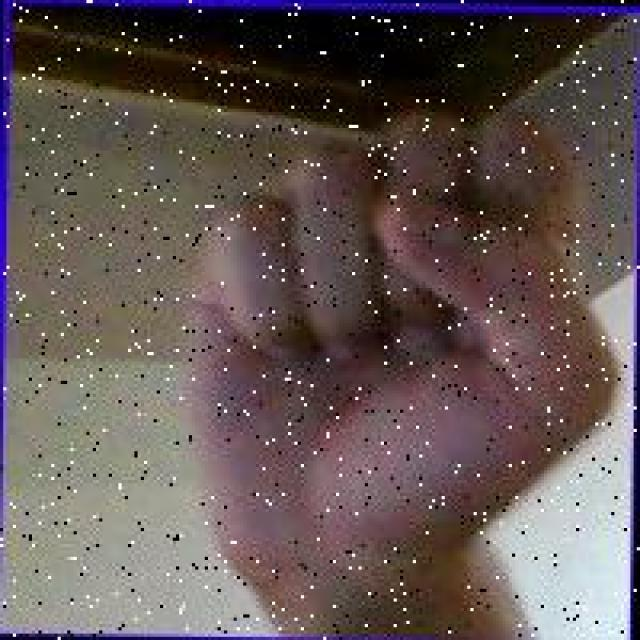S: (180, 93, 630, 592)
